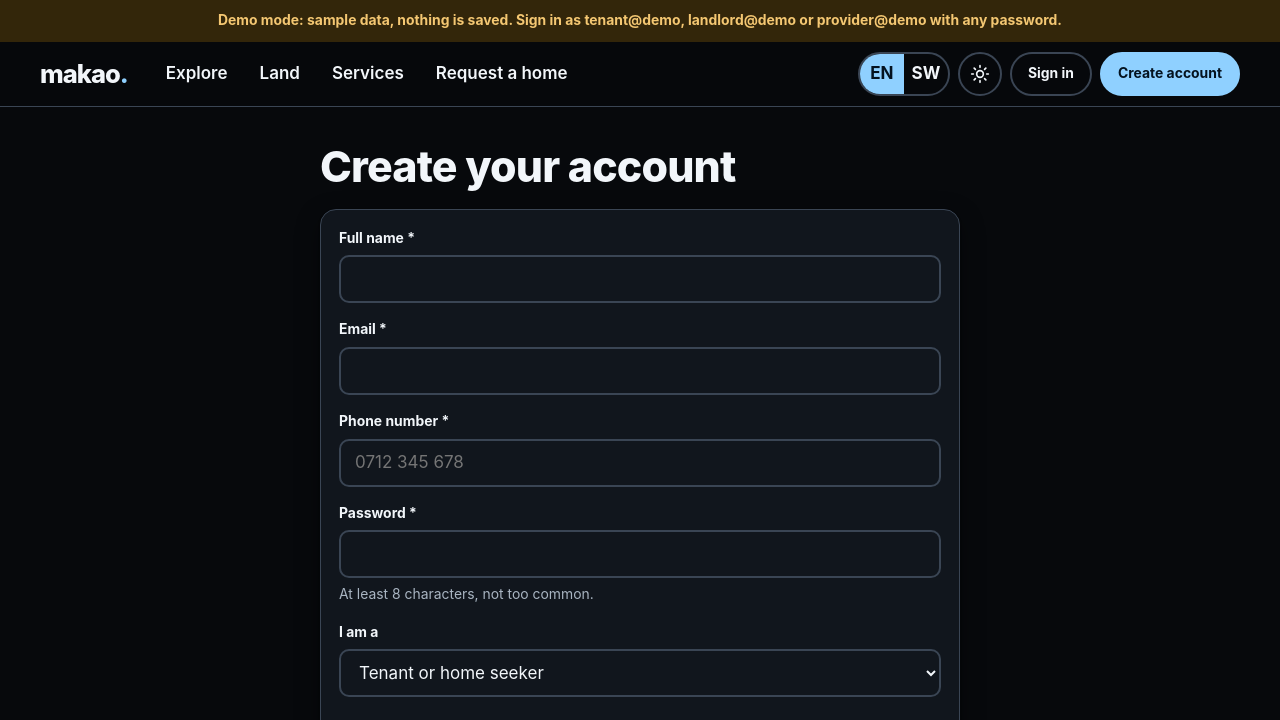
Test case: forms › sign up: consent must be ticked, then the 'check your email' step appears
In the field labelled "Full name *": x=640, y=280 [339,256,941,304], type "Amina Otieno"
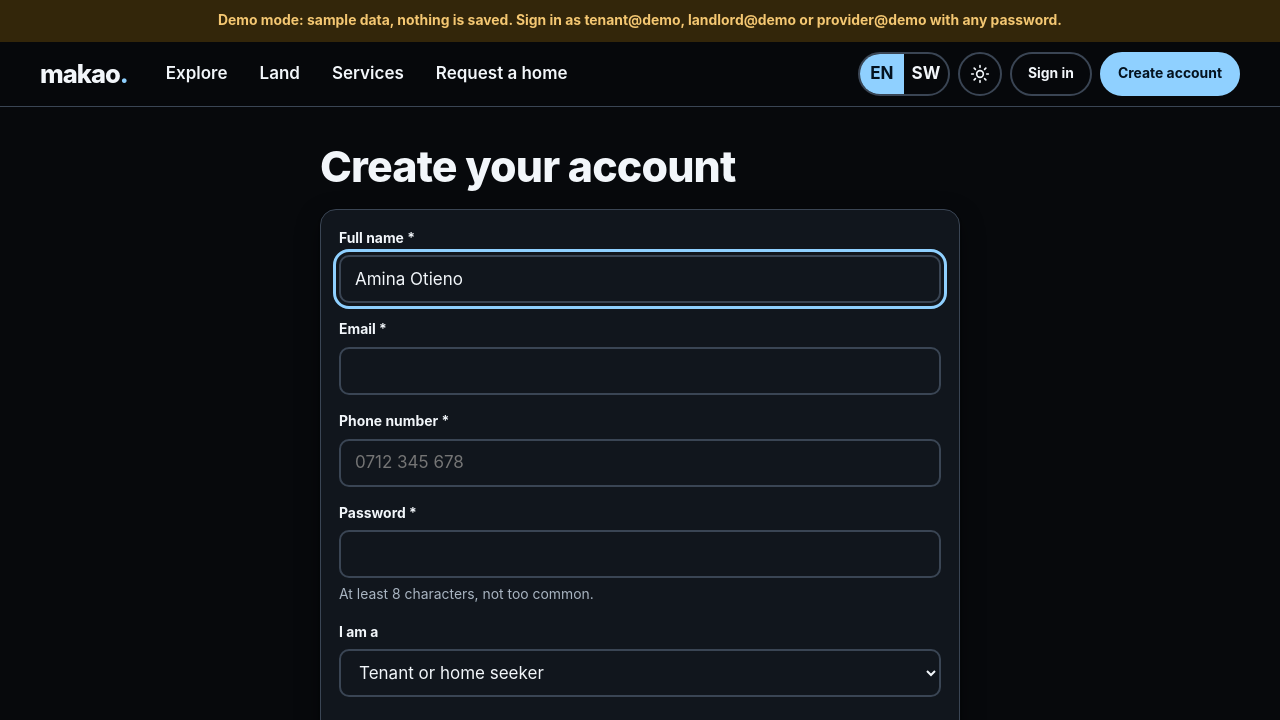
In the field labelled "Email *": x=640, y=371 [339,347,941,395], type "amina@example.com"
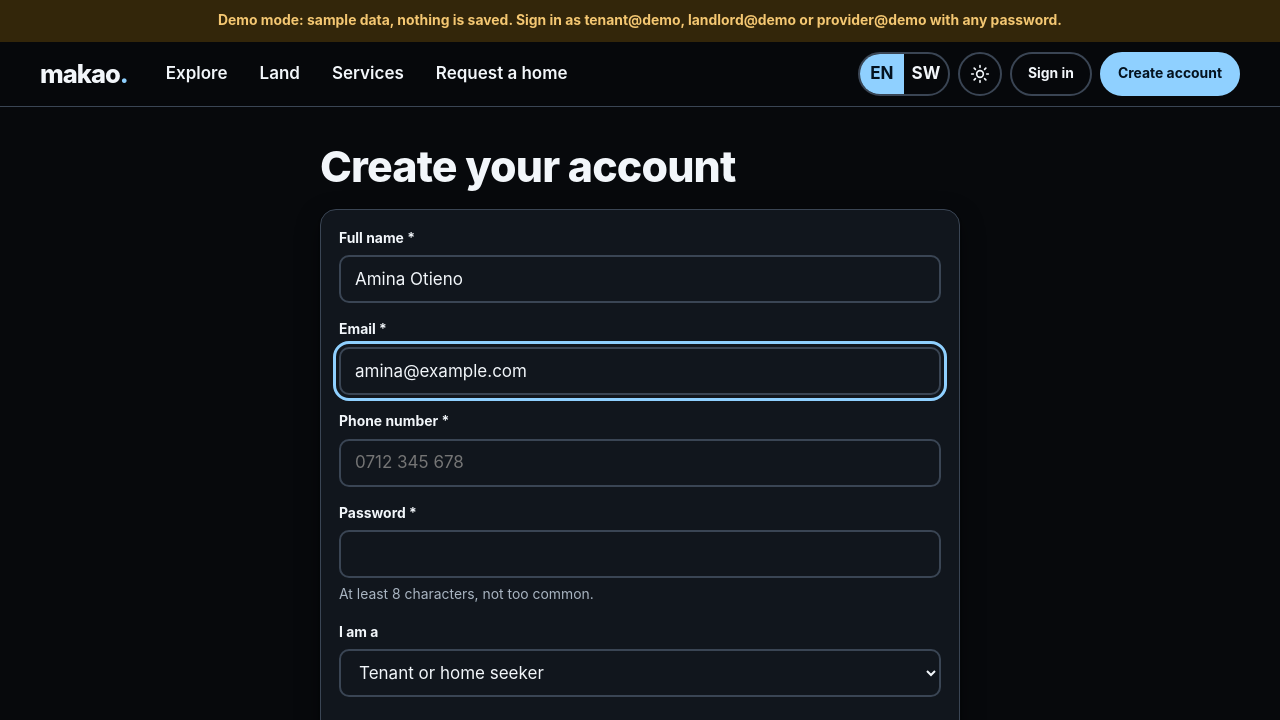
In the field labelled "Phone number *": x=640, y=463 [339,439,941,487], type "0712345678"
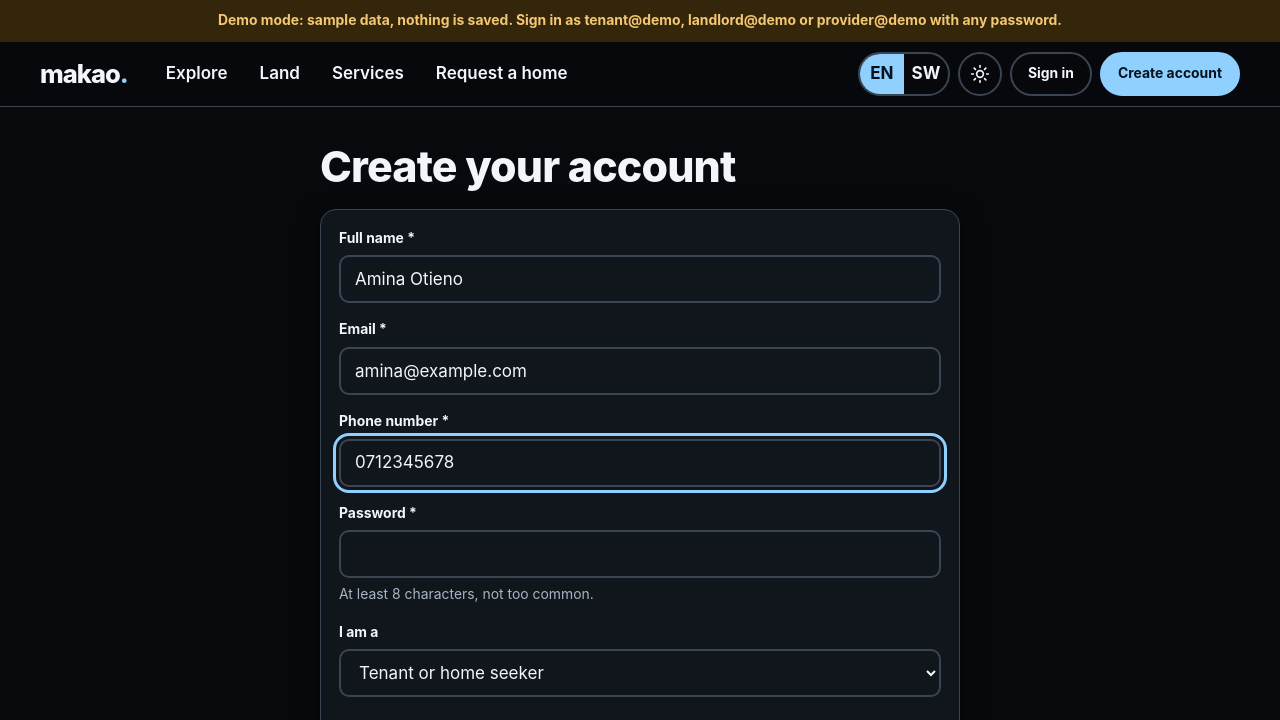
In the password field labelled "Password *": x=640, y=554 [339,530,941,578], type "Str0ng-pass-2026!"
(page scrolled)
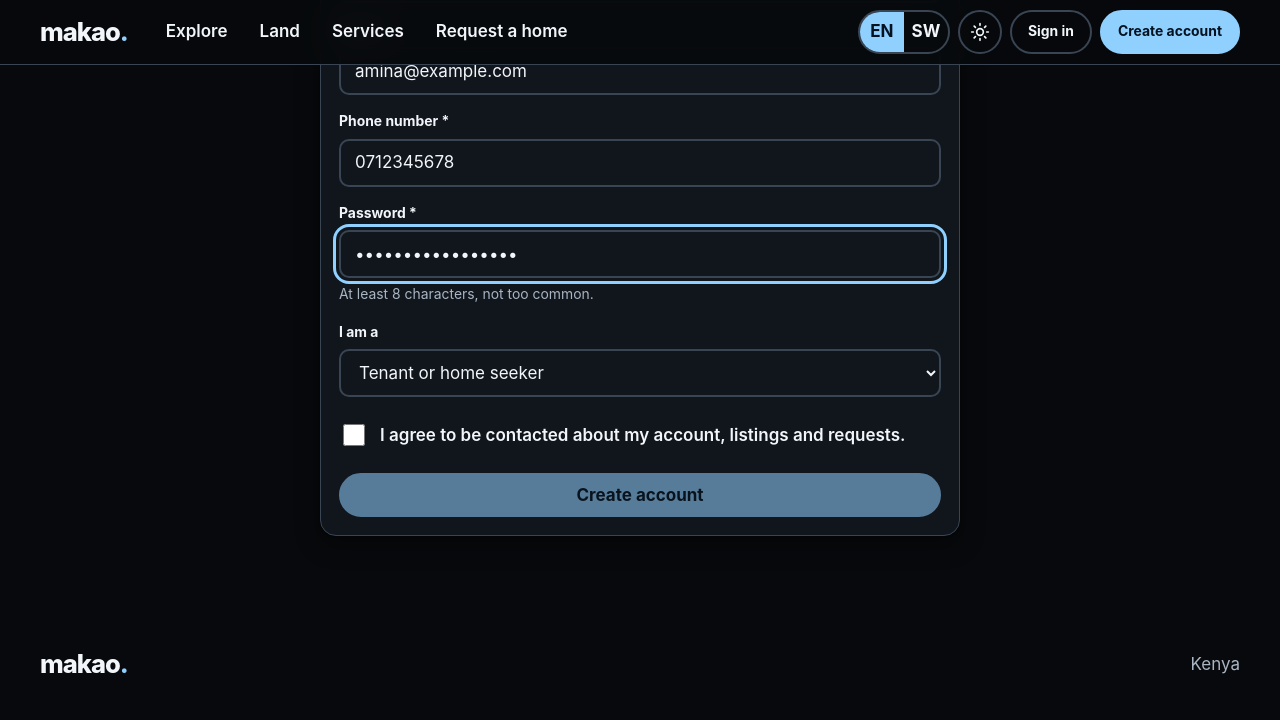
Click the checkbox labelled "agree to be contacted": x=354, y=435 [343,424,365,446]
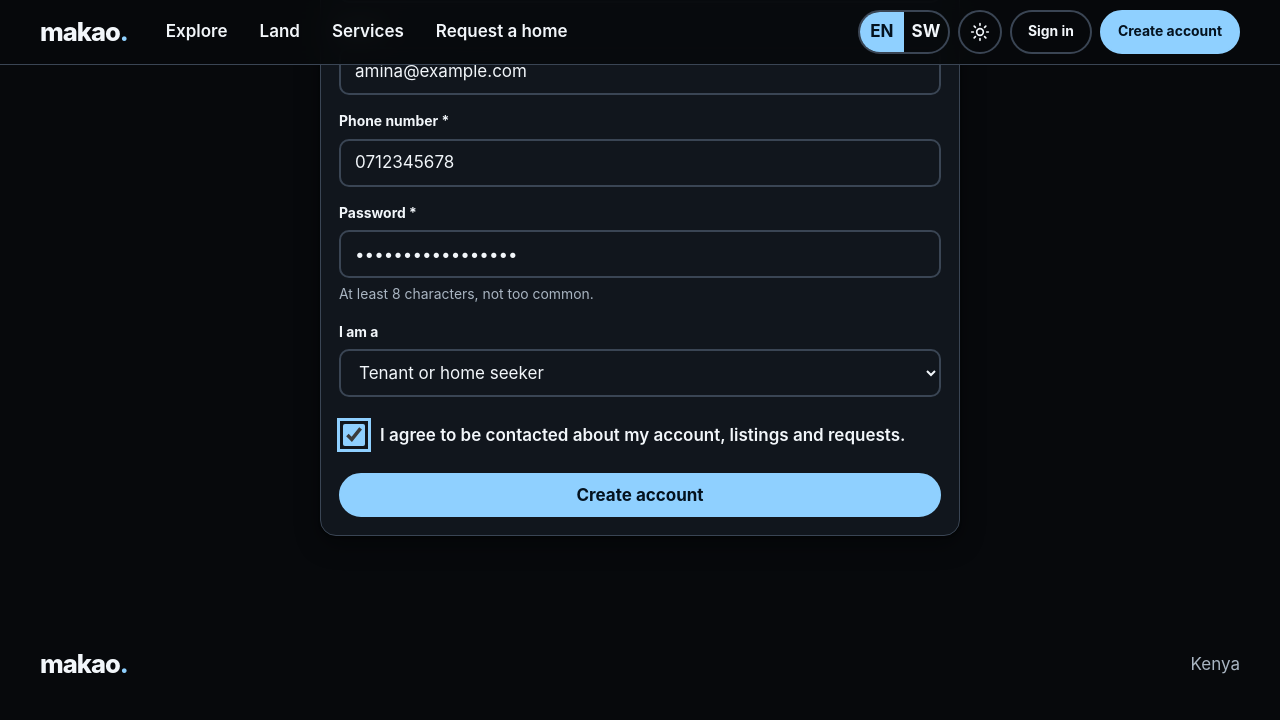
Check: the button "Create account" is enabled
Click the button "Create account": x=640, y=495 [339,473,941,517]
(page scrolled)
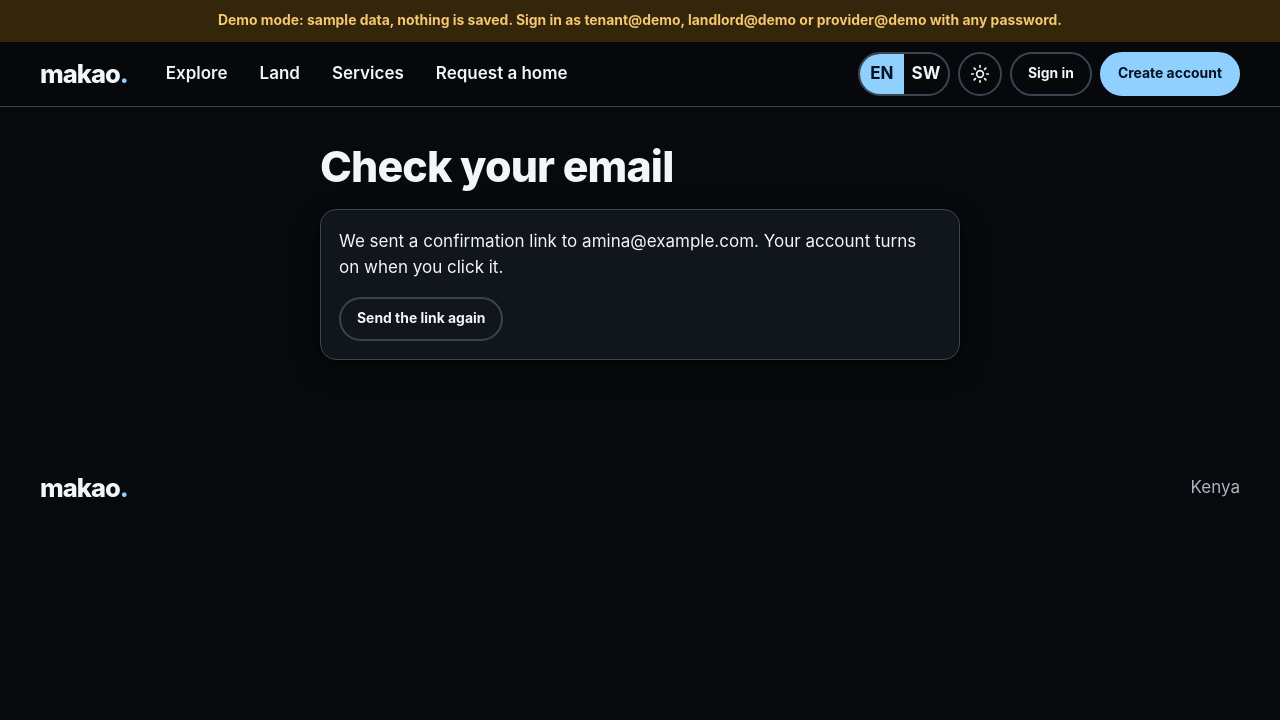
Check: the heading "Check your email" is shown, box [320,140,673,192]
Check: the text "amina@example.com" is shown, box [339,231,916,277]
